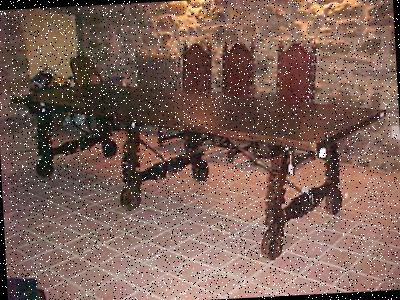Mesa: (8, 66, 394, 278)
Silla: (245, 34, 328, 176), (154, 36, 221, 153), (201, 37, 262, 162)
